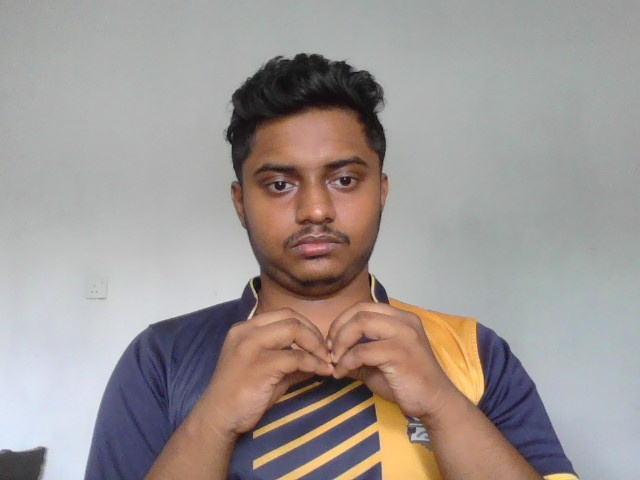More: (213, 304, 450, 434)
